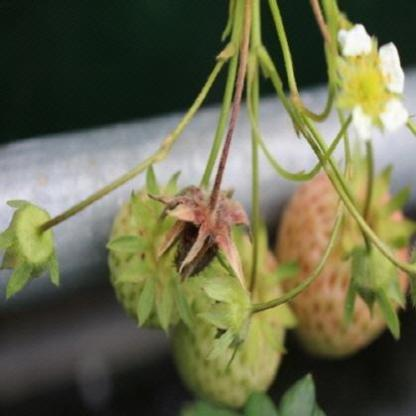Strawberry_Gray_Mold: (147, 162, 252, 291)
